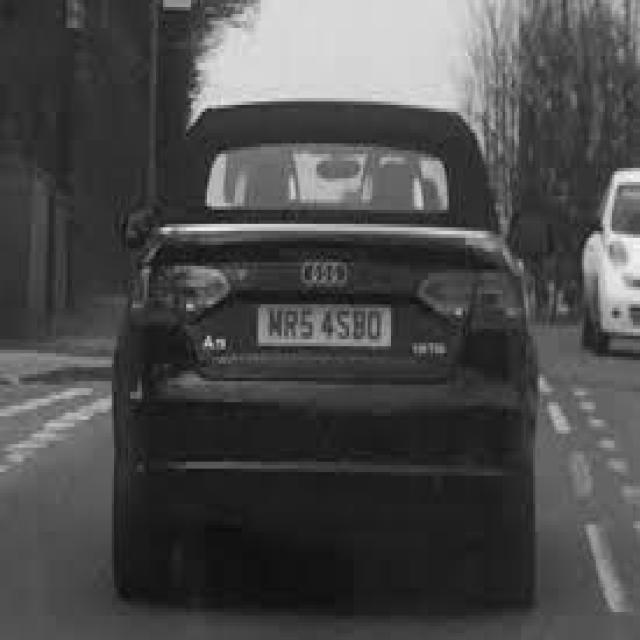car: (110, 88, 550, 616)
license-plate: (261, 301, 393, 360)
